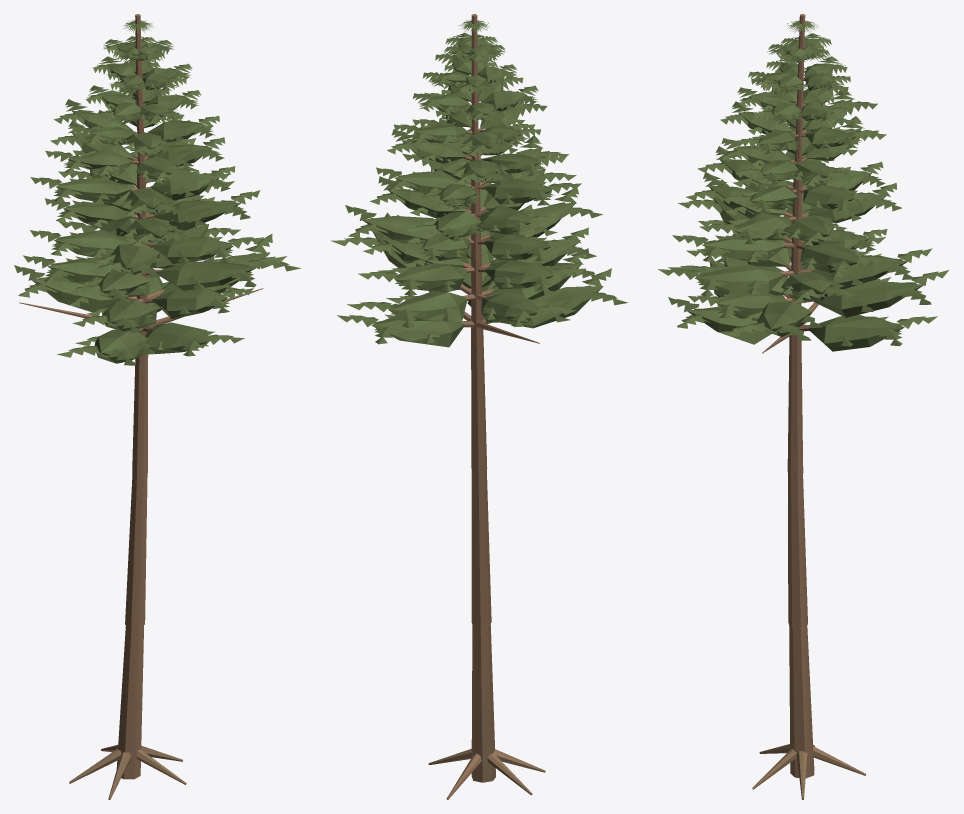
Rendered from taiga-pine.glb.
3 renders of one model, left to right at view 1: azimuth 30°, elevation 25°; view 2: azimuth 150°, elevation 25°; view 3: azimuth 270°, elevation 25°, orthographic.
Visible parts, largest first — view 1: Сосна обыкновенная · Pinus sylvestris; view 2: Сосна обыкновенная · Pinus sylvestris; view 3: Сосна обыкновенная · Pinus sylvestris.
Boxes of the visible parts, left/top/right/bottom form: Сосна обыкновенная · Pinus sylvestris: left=14, top=14, right=300, bottom=799; Сосна обыкновенная · Pinus sylvestris: left=331, top=14, right=628, bottom=799; Сосна обыкновенная · Pinus sylvestris: left=658, top=14, right=948, bottom=799.
Size of the model in its own units: 10.64 by 30.02 by 10.42.
